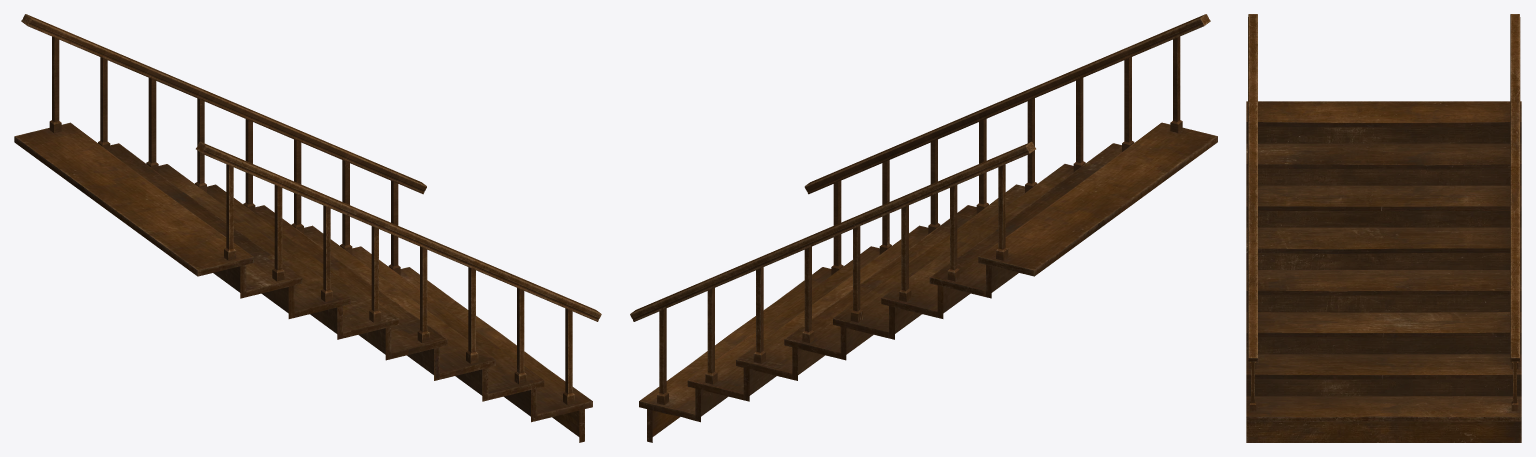
File: stair-wood.glb
The picture shows the model from 3 angles, left to right: view 1: azimuth 30°, elevation 25°; view 2: azimuth 150°, elevation 25°; view 3: azimuth 270°, elevation 25°; orthographic projection. The views are drawn at different scales.
Size of the model in its own units: 9.48 by 8.64 by 7.43.
2 materials, 2 textured.
